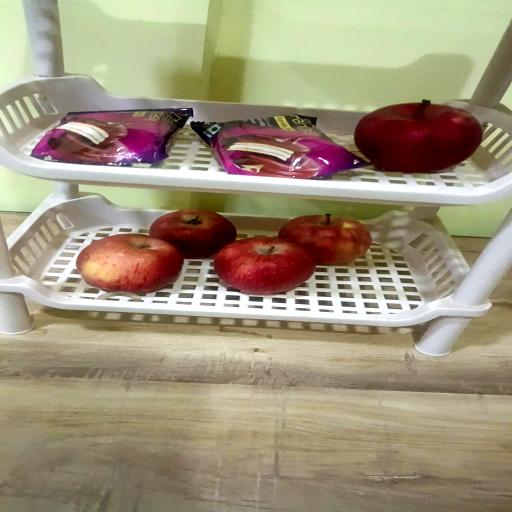Apple: (354, 98, 482, 172), (76, 236, 182, 294), (215, 238, 317, 296), (151, 212, 239, 260)
Choco Pie: (193, 114, 369, 178), (30, 109, 191, 165)
